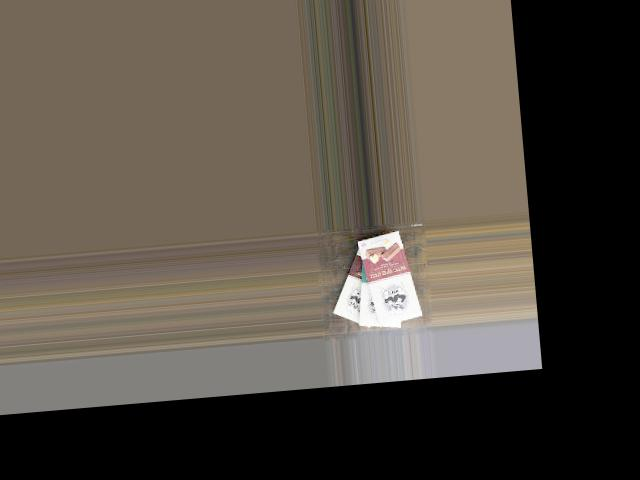chocolate: (325, 232, 393, 333)
